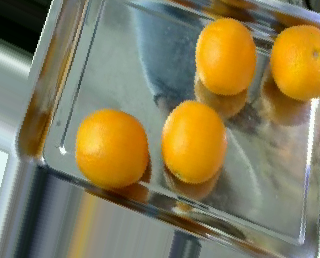Orange: (75, 107, 149, 188), (161, 100, 227, 184), (194, 16, 257, 95), (270, 23, 320, 101)
